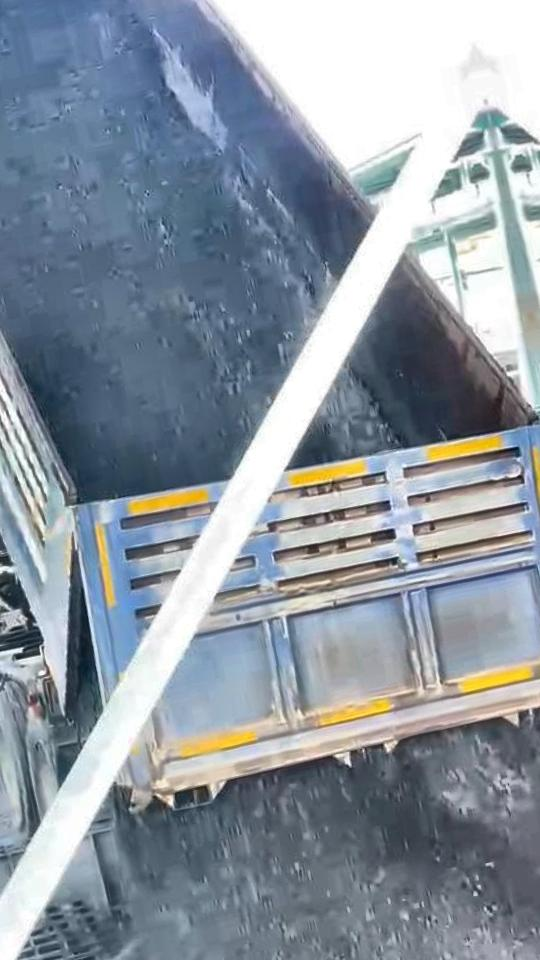gravel: (0, 0, 328, 501), (93, 720, 540, 960), (293, 366, 399, 464)
